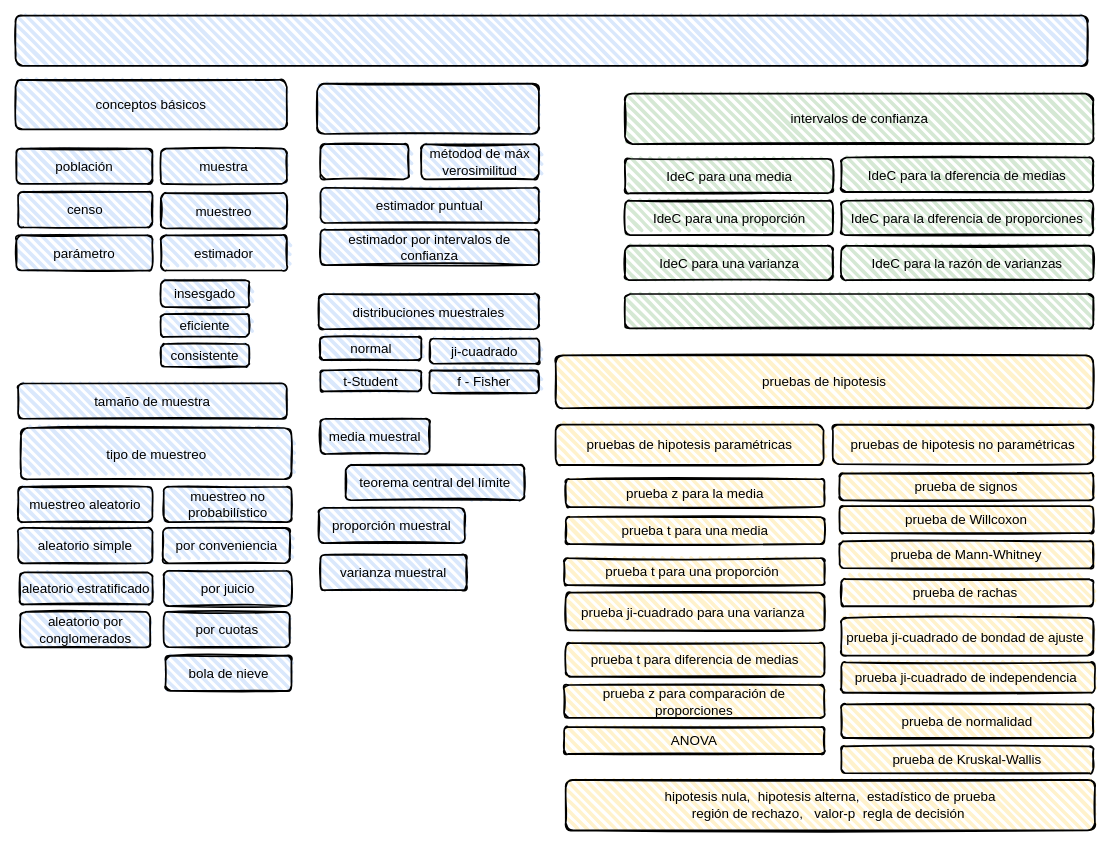
This 1110x845 diagram has some shape labels left out. The shapes that lost their labels are listed below. From the top down, each one's centre as x and y in pixels, then its label:
At (x=551, y=40): "Inferencia estadística".
At (x=427, y=108): "métodos de estimación".
At (x=364, y=161): "método de momentos".
At (x=859, y=311): "IdeC no paramétricos".
